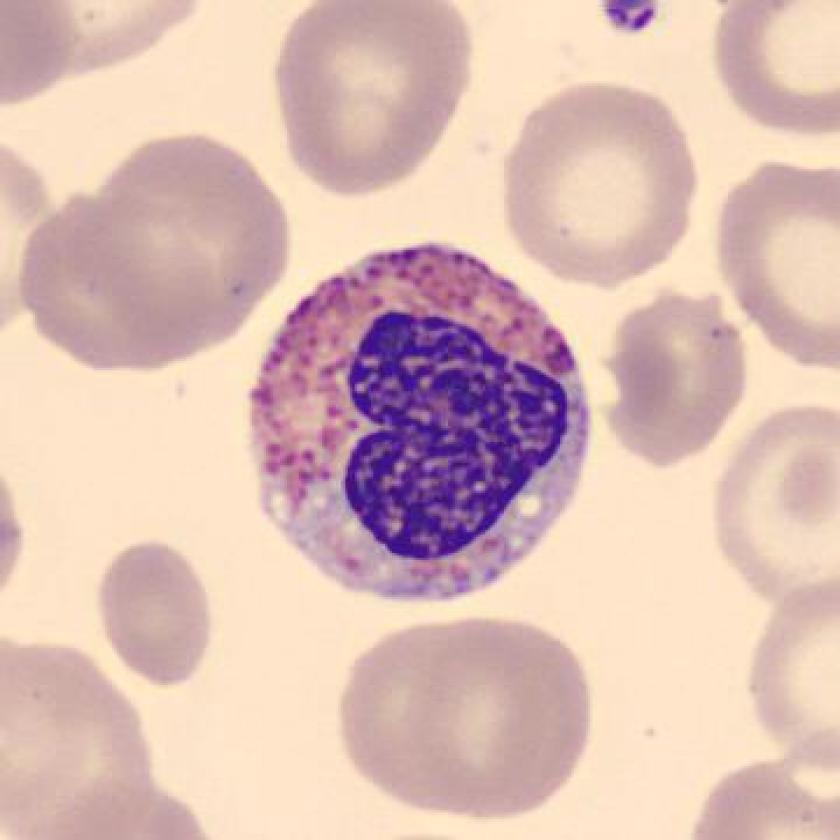eosinophil: (242, 235, 599, 621)
